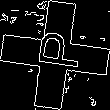P_W: (27, 33, 83, 77)
